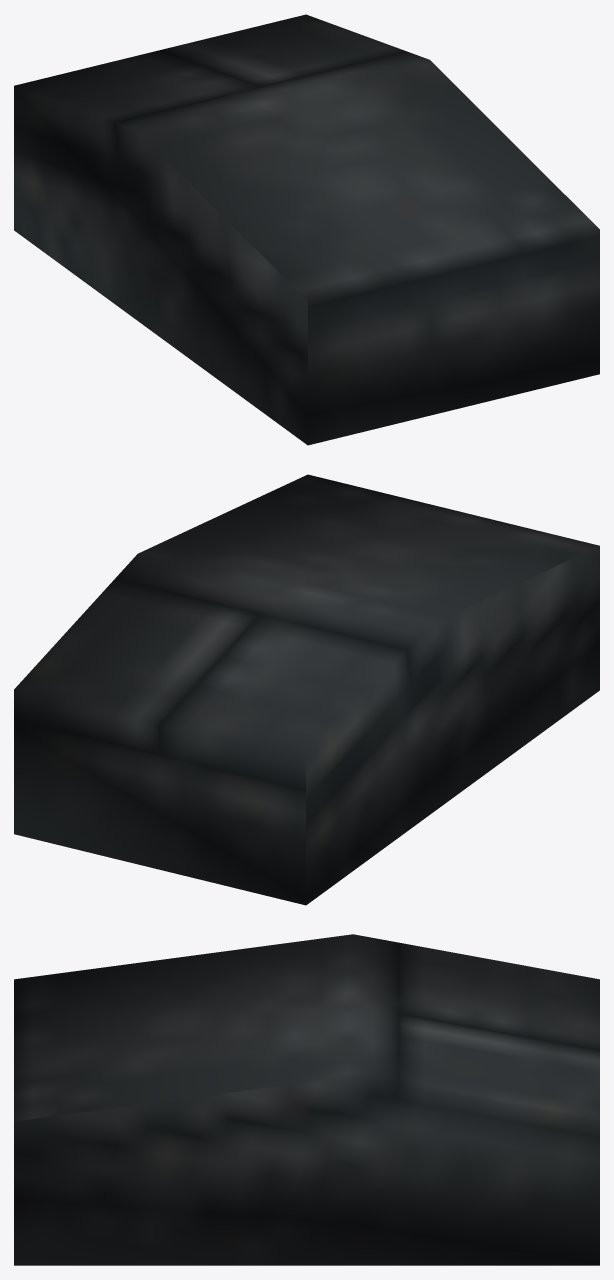
Rendered from computer-mouse.glb.
The picture shows the model from 3 angles, top to bottom: view 1: azimuth 30°, elevation 25°; view 2: azimuth 150°, elevation 25°; view 3: azimuth 270°, elevation 25°; orthographic projection.
Parts seen in each view (by area): view 1: Cube.004; view 2: Cube.004; view 3: Cube.004.
Part boxes in pixels (x1,y1,x2,y2): Cube.004: (14, 14, 599, 445); Cube.004: (14, 474, 599, 905); Cube.004: (14, 934, 599, 1265).
Bounding box in the file's own units: 0.0773 × 0.048 × 0.1347.
Materials: 1 (1 with a texture image).
